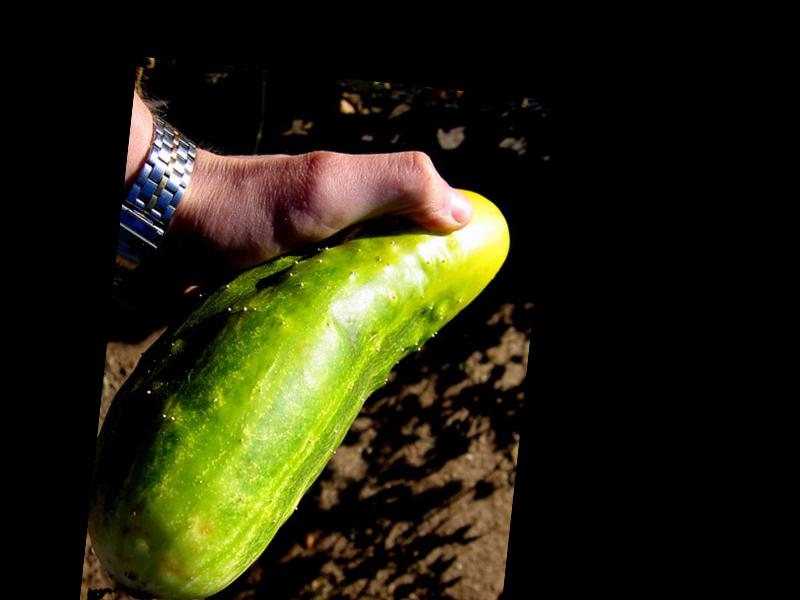Cucumber: (80, 153, 514, 600)
